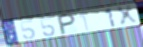1: (105, 8, 118, 28), (78, 12, 90, 32)
5: (38, 16, 57, 37), (19, 19, 37, 40)
P: (58, 13, 77, 36)
X: (114, 4, 139, 28)
